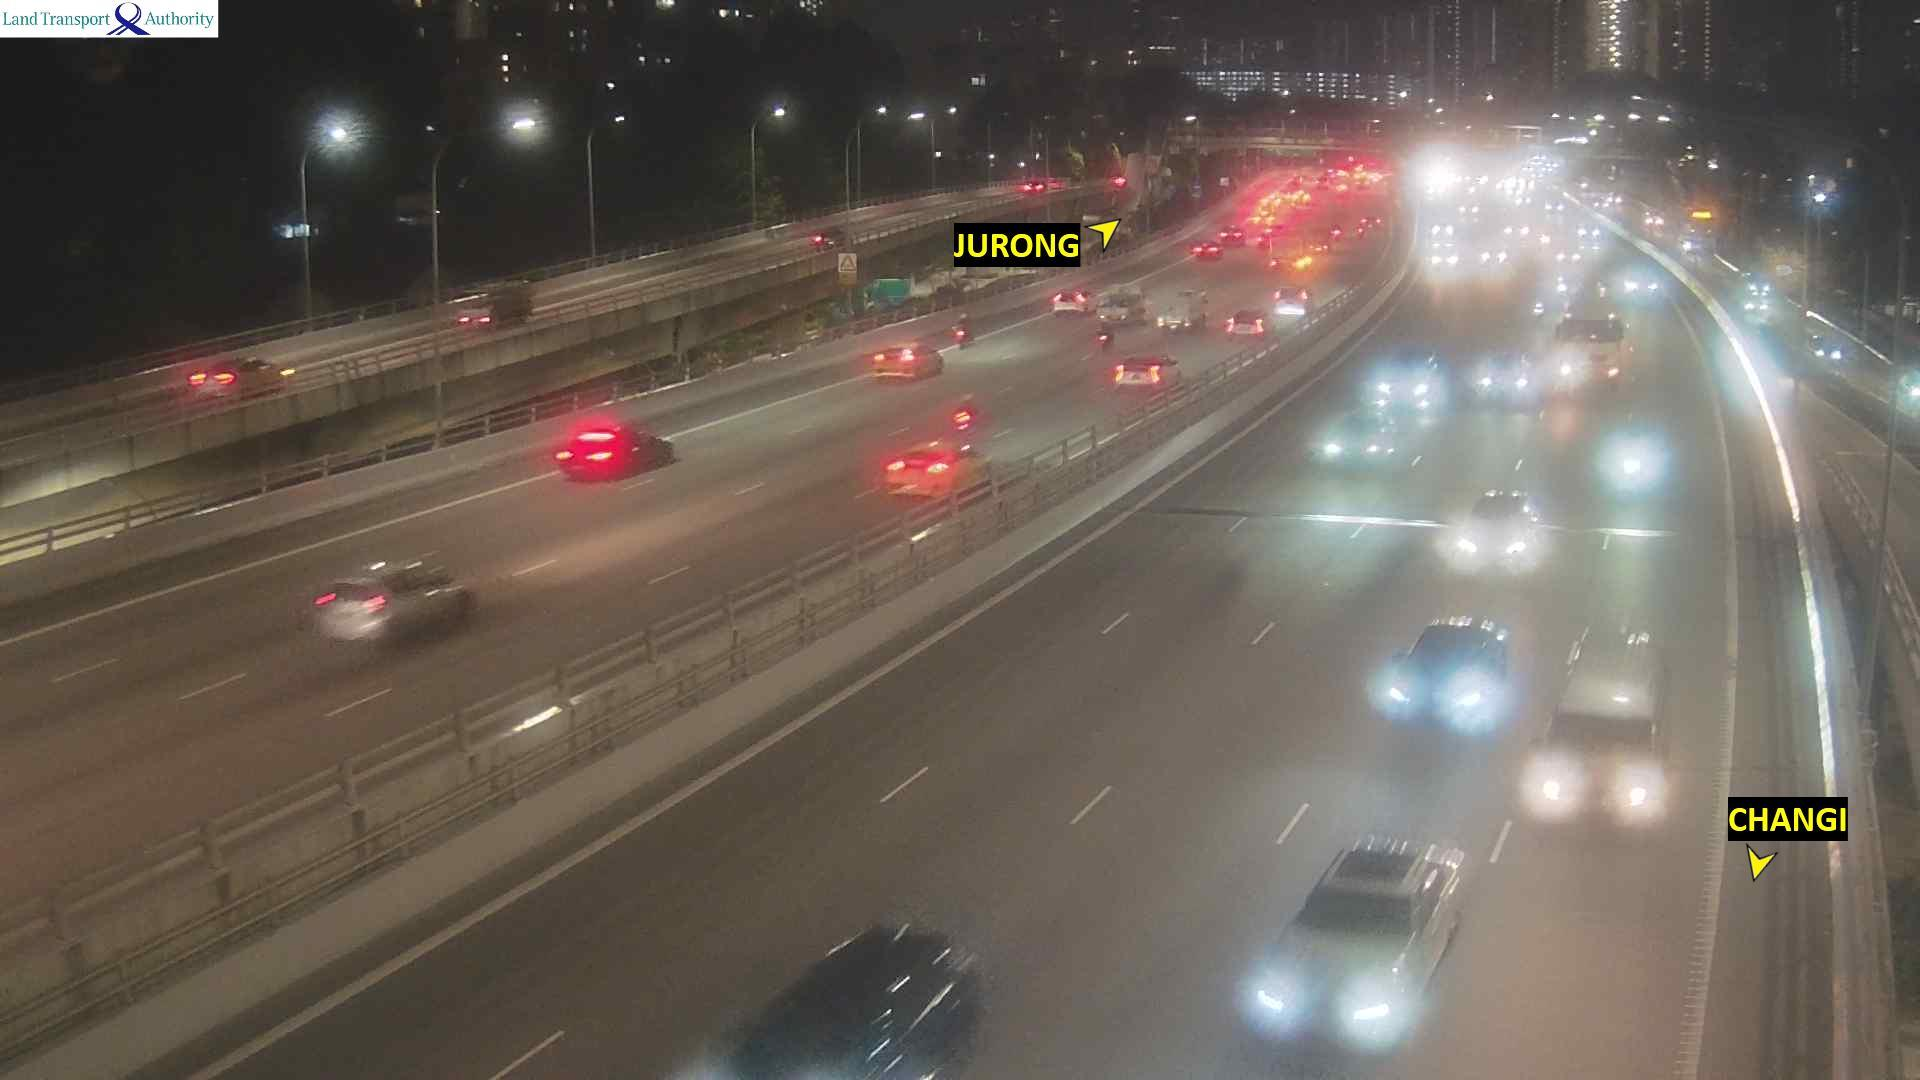incoming: (1238, 872, 1436, 1054), (1523, 711, 1677, 829), (1370, 636, 1502, 732), (1444, 502, 1553, 580), (1307, 414, 1402, 477), (1556, 315, 1627, 393), (1369, 359, 1441, 406), (1476, 356, 1536, 404), (1614, 446, 1664, 496), (1677, 207, 1725, 258), (1803, 315, 1850, 365), (1622, 261, 1662, 301), (1739, 270, 1776, 301), (1635, 204, 1667, 232), (1427, 243, 1458, 269), (1575, 215, 1604, 243), (1545, 198, 1571, 216)
